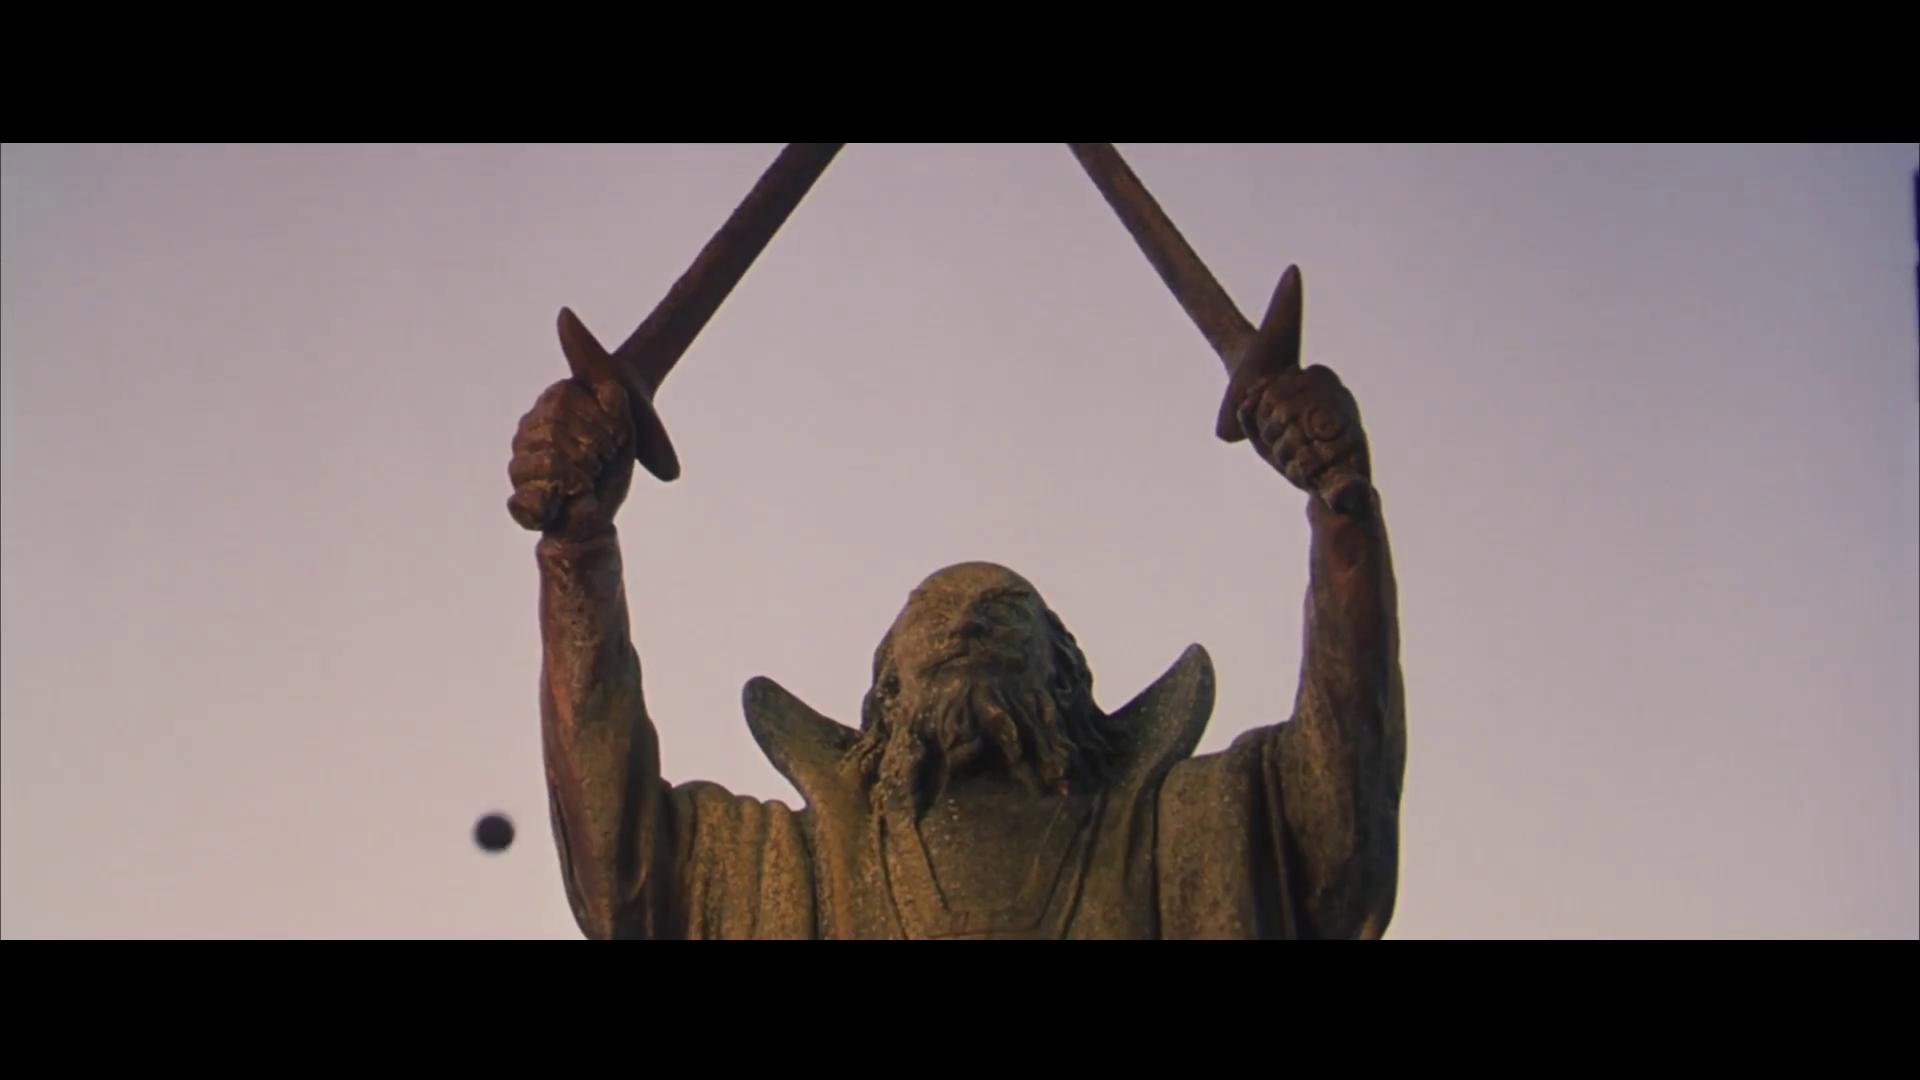bludger: (472, 807, 516, 853)
